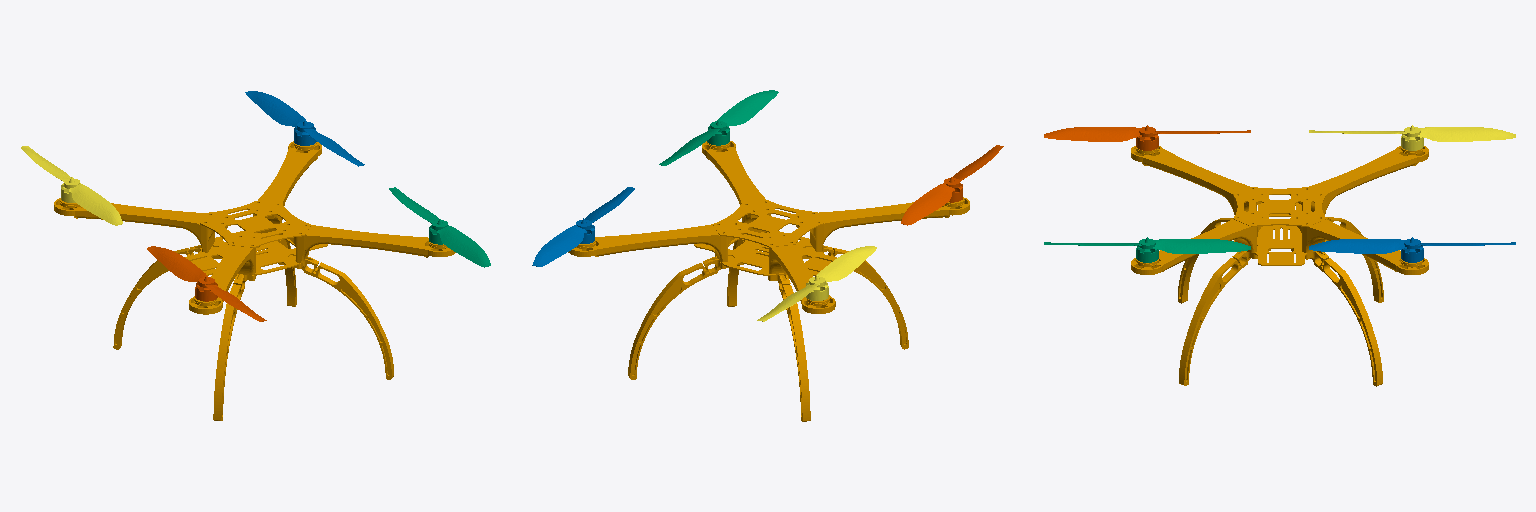
robot.urdf — lezl:
<?xml version="1.0" ?>
<robot name="lezl">
  <joint name="/imu_joint" type="fixed">
    <parent link="base_link"/>
    <child link="/imu_link"/>
    <origin rpy="0  0  0" xyz="0  0  0"/>
    <axis xyz="1  0  0"/>
    <limit effort="0.0" lower="0.0" upper="0.0" velocity="0.0"/>
  </joint>
  <joint name="rotor_0_joint" type="revolute">
    <parent link="base_link"/>
    <child link="rotor_0"/>
    <origin rpy="0  0  0" xyz="0.162 -0.162  0.007"/>
    <axis xyz="0  0  1"/>
    <limit effort="0.0" lower="-1e+16" upper="1e+16" velocity="0.0"/>
  </joint>
  <joint name="rotor_1_joint" type="revolute">
    <parent link="base_link"/>
    <child link="rotor_1"/>
    <origin rpy="0  0  0" xyz="-0.162  0.162  0.007"/>
    <axis xyz="0  0  1"/>
    <limit effort="0.0" lower="-1e+16" upper="1e+16" velocity="0.0"/>
  </joint>
  <joint name="rotor_2_joint" type="revolute">
    <parent link="base_link"/>
    <child link="rotor_2"/>
    <origin rpy="0  0  0" xyz="0.162  0.162  0.007"/>
    <axis xyz="0  0  1"/>
    <limit effort="0.0" lower="-1e+16" upper="1e+16" velocity="0.0"/>
  </joint>
  <joint name="rotor_3_joint" type="revolute">
    <parent link="base_link"/>
    <child link="rotor_3"/>
    <origin rpy="0  0  0" xyz="-0.162 -0.162  0.007"/>
    <axis xyz="0  0  1"/>
    <limit effort="0.0" lower="-1e+16" upper="1e+16" velocity="0.0"/>
  </joint>
  <link name="base_link">
    <inertial>
      <mass value="1.5"/>
      <origin rpy="0  0  0" xyz="0  0  0"/>
      <inertia ixx="0.0347563" ixy="0" ixz="0" iyy="0.0458929" iyz="0" izz="0.0977"/>
    </inertial>
    <collision name="base_link_inertia_collision">
      <origin rpy="0  0  0" xyz="0  0  0"/>
      <geometry>
        <box size="0.47 0.47 0.37"/>
      </geometry>
    </collision>
    <visual name="base_link_inertia_visual">
      <origin rpy="1.57  0    0" xyz="0.01799 -0.0265   0"/>
      <geometry>
        <mesh filename="package://irols/gazebo/models/lezl/meshes/f450_frame.stl" scale="0.001 0.001 0.001"/>
      </geometry>
    </visual>
  </link>
  <link name="/imu_link">
    <inertial>
      <mass value="0.015"/>
      <origin rpy="0  0  0" xyz="0  0  0"/>
      <inertia ixx="1e-05" ixy="0" ixz="0" iyy="1e-05" iyz="0" izz="1e-05"/>
    </inertial>
  </link>
  <link name="rotor_0">
    <inertial>
      <mass value="0.005"/>
      <origin rpy="0  0  0" xyz="0  0  0"/>
      <inertia ixx="9.75e-07" ixy="0" ixz="0" iyy="0.000273104" iyz="0" izz="0.000274004"/>
    </inertial>
    <collision name="rotor_0_collision">
      <origin rpy="0  0  0" xyz="0  0  0"/>
      <geometry>
        <cylinder length="0.005" radius="0.128"/>
      </geometry>
    </collision>
    <visual name="rotor_0_visual">
      <origin rpy="1.57  0    0" xyz="0  0  0"/>
      <geometry>
        <mesh filename="package://irols/gazebo/models/lezl/meshes/f450_prop_ccw.stl" scale="0.001 0.001 0.001"/>
      </geometry>
    </visual>
  </link>
  <link name="rotor_1">
    <inertial>
      <mass value="0.005"/>
      <origin rpy="0  0  0" xyz="0  0  0"/>
      <inertia ixx="9.75e-07" ixy="0" ixz="0" iyy="0.000273104" iyz="0" izz="0.000274004"/>
    </inertial>
    <collision name="rotor_1_collision">
      <origin rpy="0  0  0" xyz="0  0  0"/>
      <geometry>
        <cylinder length="0.005" radius="0.128"/>
      </geometry>
    </collision>
    <visual name="rotor_1_visual">
      <origin rpy="1.57  0    0" xyz="0  0  0"/>
      <geometry>
        <mesh filename="package://irols/gazebo/models/lezl/meshes/f450_prop_ccw.stl" scale="0.001 0.001 0.001"/>
      </geometry>
    </visual>
  </link>
  <link name="rotor_2">
    <inertial>
      <mass value="0.005"/>
      <origin rpy="0  0  0" xyz="0  0  0"/>
      <inertia ixx="9.75e-07" ixy="0" ixz="0" iyy="0.000273104" iyz="0" izz="0.000274004"/>
    </inertial>
    <collision name="rotor_2_collision">
      <origin rpy="0  0  0" xyz="0  0  0"/>
      <geometry>
        <cylinder length="0.005" radius="0.128"/>
      </geometry>
    </collision>
    <visual name="rotor_2_visual">
      <origin rpy="1.57  0    0" xyz="0  0  0"/>
      <geometry>
        <mesh filename="package://irols/gazebo/models/lezl/meshes/f450_prop_cw.stl" scale="0.001 0.001 0.001"/>
      </geometry>
    </visual>
  </link>
  <link name="rotor_3">
    <inertial>
      <mass value="0.005"/>
      <origin rpy="0  0  0" xyz="0  0  0"/>
      <inertia ixx="9.75e-07" ixy="0" ixz="0" iyy="0.000273104" iyz="0" izz="0.000274004"/>
    </inertial>
    <collision name="rotor_3_collision">
      <origin rpy="0  0  0" xyz="0  0  0"/>
      <geometry>
        <cylinder length="0.005" radius="0.128"/>
      </geometry>
    </collision>
    <visual name="rotor_3_visual">
      <origin rpy="1.57  0    0" xyz="0  0  0"/>
      <geometry>
        <mesh filename="package://irols/gazebo/models/lezl/meshes/f450_prop_cw.stl" scale="0.001 0.001 0.001"/>
      </geometry>
    </visual>
  </link>
</robot>

--- What the picture shows (computed from the rendered views, not written in the file) ---
3 views of the same robot in one strip: view 1: azimuth 30°, elevation 25°; view 2: azimuth 150°, elevation 25°; view 3: azimuth 270°, elevation 25° (orthographic).
Robot: lezl — 6 links, 5 joints (4 revolute, 1 fixed); root link base_link; default pose: every joint at zero.
Links seen in each view (by area): view 1: base_link, rotor_3, rotor_2, rotor_1, rotor_0; view 2: base_link, rotor_0, rotor_1, rotor_3, rotor_2; view 3: base_link, rotor_0, rotor_3, rotor_1, rotor_2.
Boxes of the visible links, <box> form: base_link: <box>54,141,455,420</box>; rotor_3: <box>147,246,266,321</box>; rotor_2: <box>245,91,364,166</box>; rotor_1: <box>21,146,122,225</box>; rotor_0: <box>389,187,490,267</box>; base_link: <box>568,141,969,421</box>; rotor_0: <box>659,90,778,165</box>; rotor_1: <box>757,246,876,321</box>; rotor_3: <box>901,145,1003,225</box>; rotor_2: <box>532,187,634,266</box>; base_link: <box>1131,146,1428,386</box>; rotor_0: <box>1044,237,1250,262</box>; rotor_3: <box>1044,125,1250,150</box>; rotor_1: <box>1309,125,1515,150</box>; rotor_2: <box>1309,237,1515,262</box>.
Bounding box of the posed robot: 0.3661 × 0.576 × 0.2192 m (x, y, z).
Meshes: 3 distinct files referenced, 5 mesh visuals loaded (3 binary STL).
